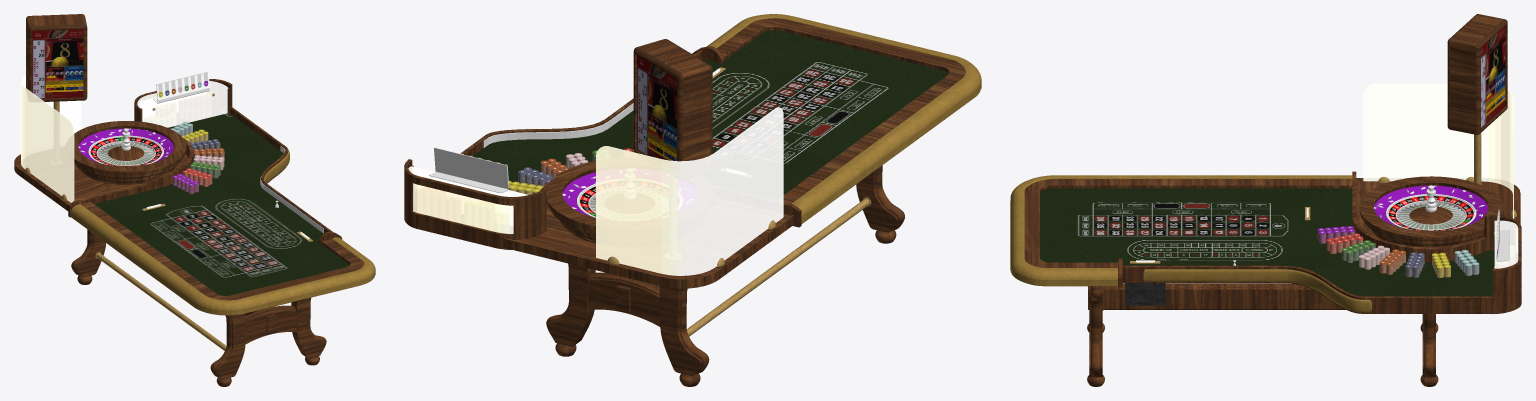
Rendered from roulette.glb.
3 renders of one model, left to right at view 1: azimuth 30°, elevation 25°; view 2: azimuth 150°, elevation 25°; view 3: azimuth 270°, elevation 25°, orthographic. The views are drawn at different scales.
Parts seen in each view (by area): view 1: Line03, Loft01, ChamferBox01, Line05, Line28, Line18, Line07, Box04, Line02, Arc02, Line01, Cylinder03 (+11 smaller); view 2: Line03, Line05, ChamferBox01, Loft01, Line18, Line07, Line02, Line11, Line12, Line28, Arc03, Line06 (+5 smaller); view 3: Line03, Line05, ChamferBox01, Line28, Line16, Line07, Loft01, Line08, Line10, Line18, Line11, Line01 (+7 smaller).
Boxes of the visible parts, x1,y1,x2,y2 form: Line03: [94, 113, 349, 295]; Loft01: [70, 204, 375, 315]; ChamferBox01: [26, 14, 87, 112]; Line05: [21, 75, 81, 202]; Line28: [74, 121, 186, 184]; Line18: [71, 229, 326, 379]; Line07: [81, 202, 363, 300]; Box04: [142, 88, 227, 127]; Line02: [14, 154, 188, 210]; Arc02: [245, 305, 296, 344]; Line01: [68, 138, 192, 217]; Cylinder03: [95, 252, 226, 350]; Line03: [472, 30, 948, 194]; Line05: [596, 107, 783, 275]; ChamferBox01: [633, 39, 712, 161]; Loft01: [707, 14, 981, 223]; Line18: [546, 165, 904, 376]; Line07: [716, 18, 964, 203]; Line02: [503, 205, 794, 288]; Line11: [404, 159, 546, 249]; Line12: [413, 183, 513, 233]; Line28: [546, 160, 595, 243]; Arc03: [588, 272, 660, 326]; Line06: [429, 147, 508, 193]; Line03: [1040, 188, 1494, 296]; Line05: [1363, 83, 1513, 218]; ChamferBox01: [1447, 14, 1507, 184]; Line28: [1359, 176, 1503, 247]; Line16: [1088, 284, 1345, 309]; Line07: [1024, 179, 1352, 267]; Loft01: [1010, 175, 1352, 286]; Line08: [1122, 265, 1492, 313]; Line10: [1143, 269, 1371, 312]; Line18: [1089, 286, 1435, 377]; Line11: [1484, 214, 1521, 313]; Line01: [1352, 171, 1486, 262].
Size of the model in its own units: 676 by 725 by 1123.
Materials: 32 (24 with a texture image).
